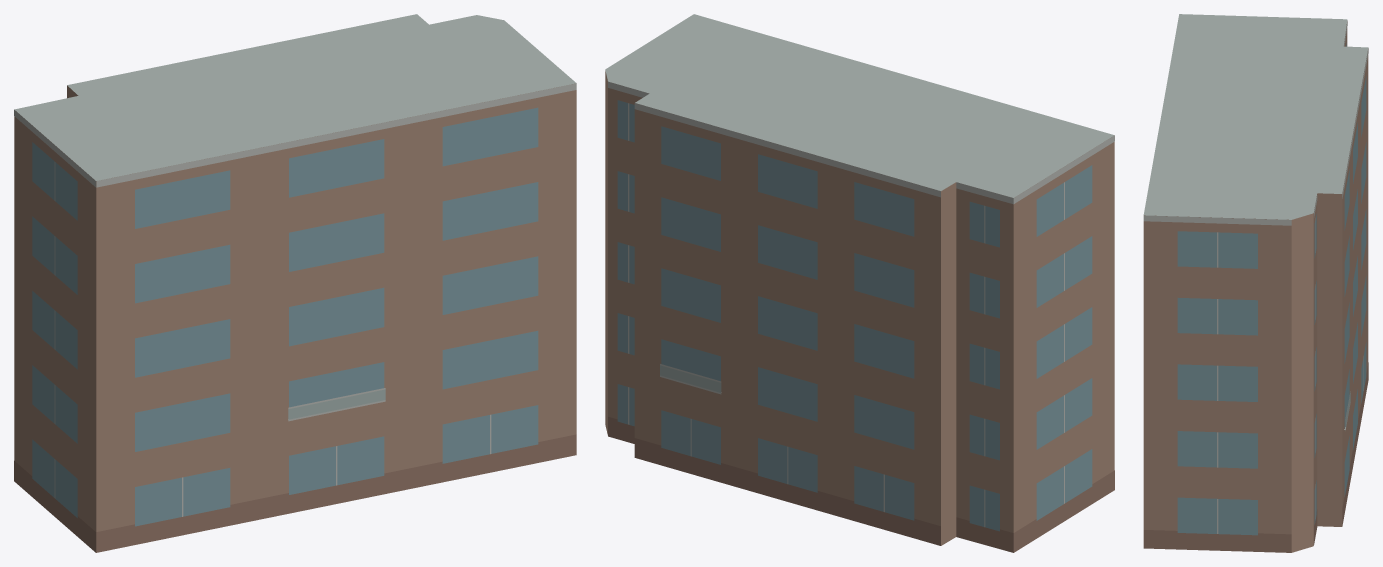
Rendered from survey-upis-32762008.glb.
The picture shows the model from 3 angles, left to right: view 1: azimuth 30°, elevation 25°; view 2: azimuth 150°, elevation 25°; view 3: azimuth 270°, elevation 25°; orthographic projection. The views are drawn at different scales.
Visible parts, largest first — view 1: survey-upis-32762008.tmp; view 2: survey-upis-32762008.tmp; view 3: survey-upis-32762008.tmp.
Boxes of the visible parts, x1,y1,x2,y2 form: survey-upis-32762008.tmp: (14,14,576,552); survey-upis-32762008.tmp: (605,14,1114,552); survey-upis-32762008.tmp: (1143,14,1368,552).
Bounding box in the file's own units: 18.31 × 13.8 × 8.46.
